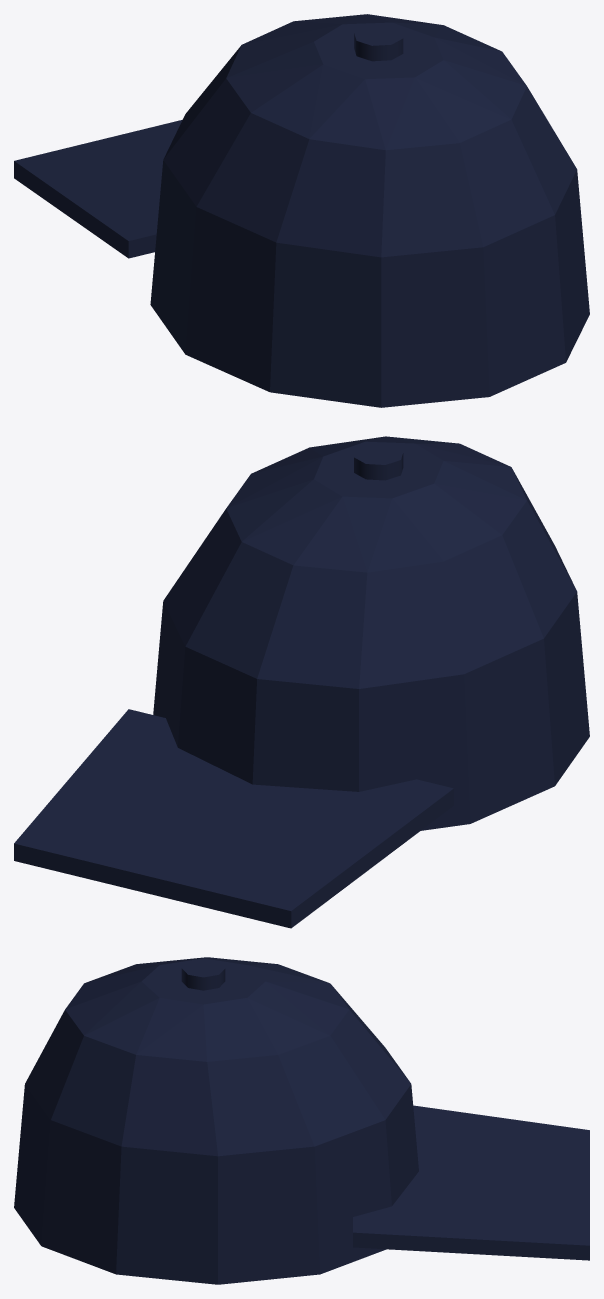
File: cap.glb
The picture shows the model from 3 angles, top to bottom: view 1: azimuth 30°, elevation 25°; view 2: azimuth 150°, elevation 25°; view 3: azimuth 270°, elevation 25°; orthographic projection. The views are drawn at different scales.
Parts seen in each view (by area): view 1: Cap; view 2: Cap; view 3: Cap.
Part boxes in pixels (x1,y1,x2,y2): Cap: [14, 14, 589, 407]; Cap: [14, 436, 589, 928]; Cap: [14, 957, 589, 1284].
Size of the model in its own units: 0.2 by 0.145 by 0.316.
